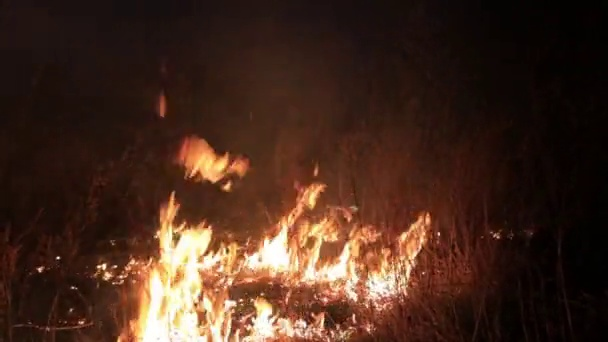fire: (240, 183, 430, 342), (120, 193, 235, 342), (175, 138, 244, 186)
